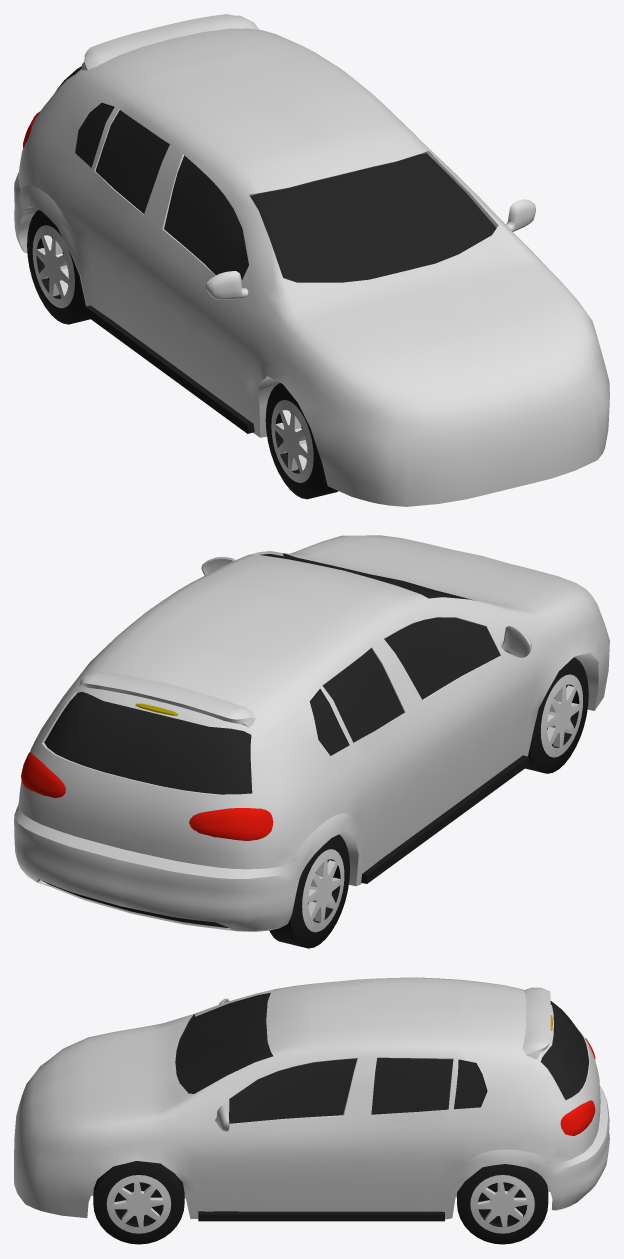
Rendered from Carro_Gol.fbx.
3 renders of one model, top to bottom at view 1: azimuth 30°, elevation 25°; view 2: azimuth 150°, elevation 25°; view 3: azimuth 270°, elevation 25°, orthographic. The views are drawn at different scales.
Visible parts, largest first — view 1: Chassi, Roda_Dianteira_Dir, Roda_Traseira_Dir, Plane.001, Cube.001, Retrovisor; view 2: Chassi, Roda_Traseira_Dir, Roda_Dianteira_Dir, Luz_Traseira_Dir, Plane.001, Cube.001, Retrovisor; view 3: Chassi, Roda_Dianteira_Esq, Roda_Traseira_Esq, Cube.001, Plane.001, Luz_Traseira_Dir.
Boxes of the visible parts, x1,y1,x2,y2 form: Chassi: [14, 28, 609, 506]; Roda_Dianteira_Dir: [265, 383, 338, 499]; Roda_Traseira_Dir: [27, 210, 90, 324]; Plane.001: [81, 14, 258, 70]; Cube.001: [85, 305, 254, 433]; Retrovisor: [205, 199, 535, 299]; Chassi: [14, 535, 609, 931]; Roda_Traseira_Dir: [269, 834, 349, 948]; Roda_Dianteira_Dir: [525, 657, 588, 773]; Luz_Traseira_Dir: [21, 752, 273, 840]; Plane.001: [78, 672, 255, 727]; Cube.001: [361, 755, 528, 883]; Retrovisor: [201, 557, 531, 657]; Chassi: [14, 977, 609, 1219]; Roda_Dianteira_Esq: [93, 1161, 184, 1244]; Roda_Traseira_Esq: [457, 1164, 548, 1244]; Cube.001: [198, 1211, 444, 1221]; Plane.001: [522, 987, 550, 1059]; Luz_Traseira_Dir: [560, 1038, 595, 1135].
Size of the model in its own units: 2.13 by 1.53 by 4.38.
